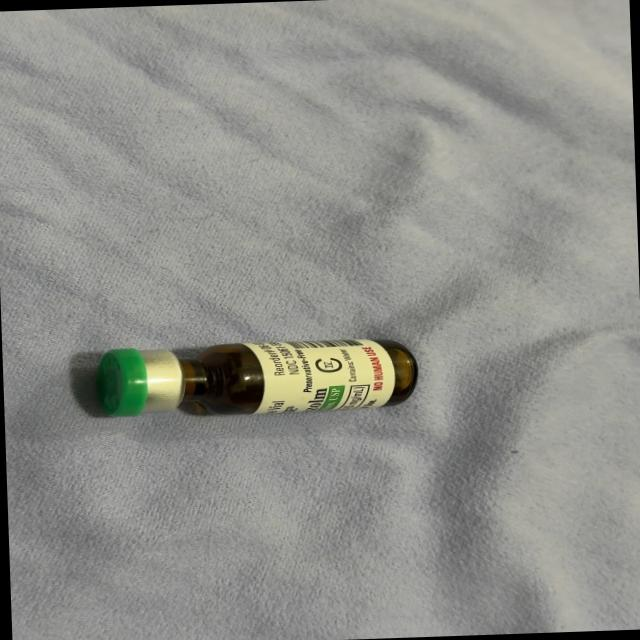midazolm: (100, 338, 413, 419)
